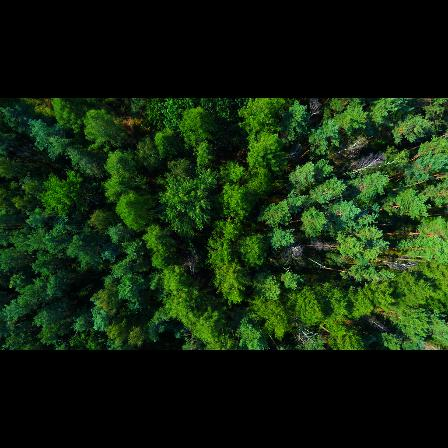Dead: (330, 136, 370, 160), (347, 153, 388, 175), (291, 314, 317, 345), (382, 253, 417, 273), (181, 248, 203, 277), (365, 310, 394, 332), (307, 237, 341, 255), (284, 237, 304, 265), (283, 143, 308, 161), (305, 98, 327, 118)
